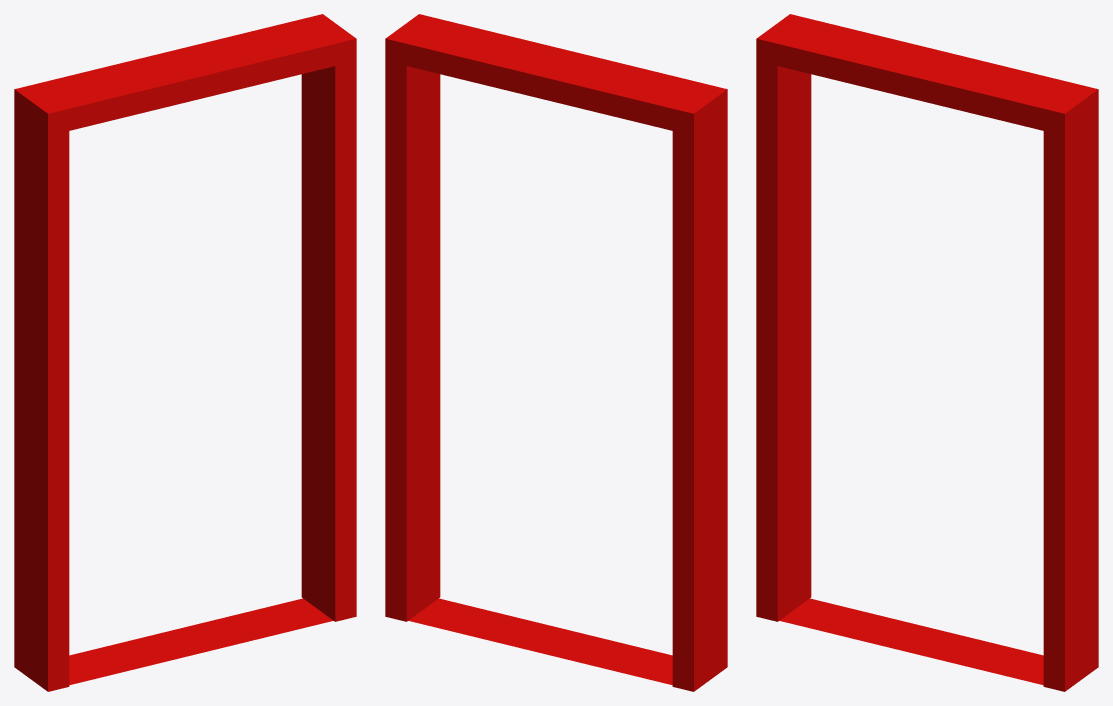
Rendered from DoorEdge.fbx.
3 views of the same model, side by side, from view 1: azimuth 30°, elevation 25°; view 2: azimuth 150°, elevation 25°; view 3: azimuth 330°, elevation 25° (orthographic).
Parts seen in each view (by area): view 1: DoorEdge; view 2: DoorEdge; view 3: DoorEdge.
Part boxes in pixels (x1,y1,x2,y2): DoorEdge: (14,14,356,691); DoorEdge: (385,14,727,691); DoorEdge: (756,14,1098,691).
Bounding box in the file's own units: 116 × 208 × 21.95.
